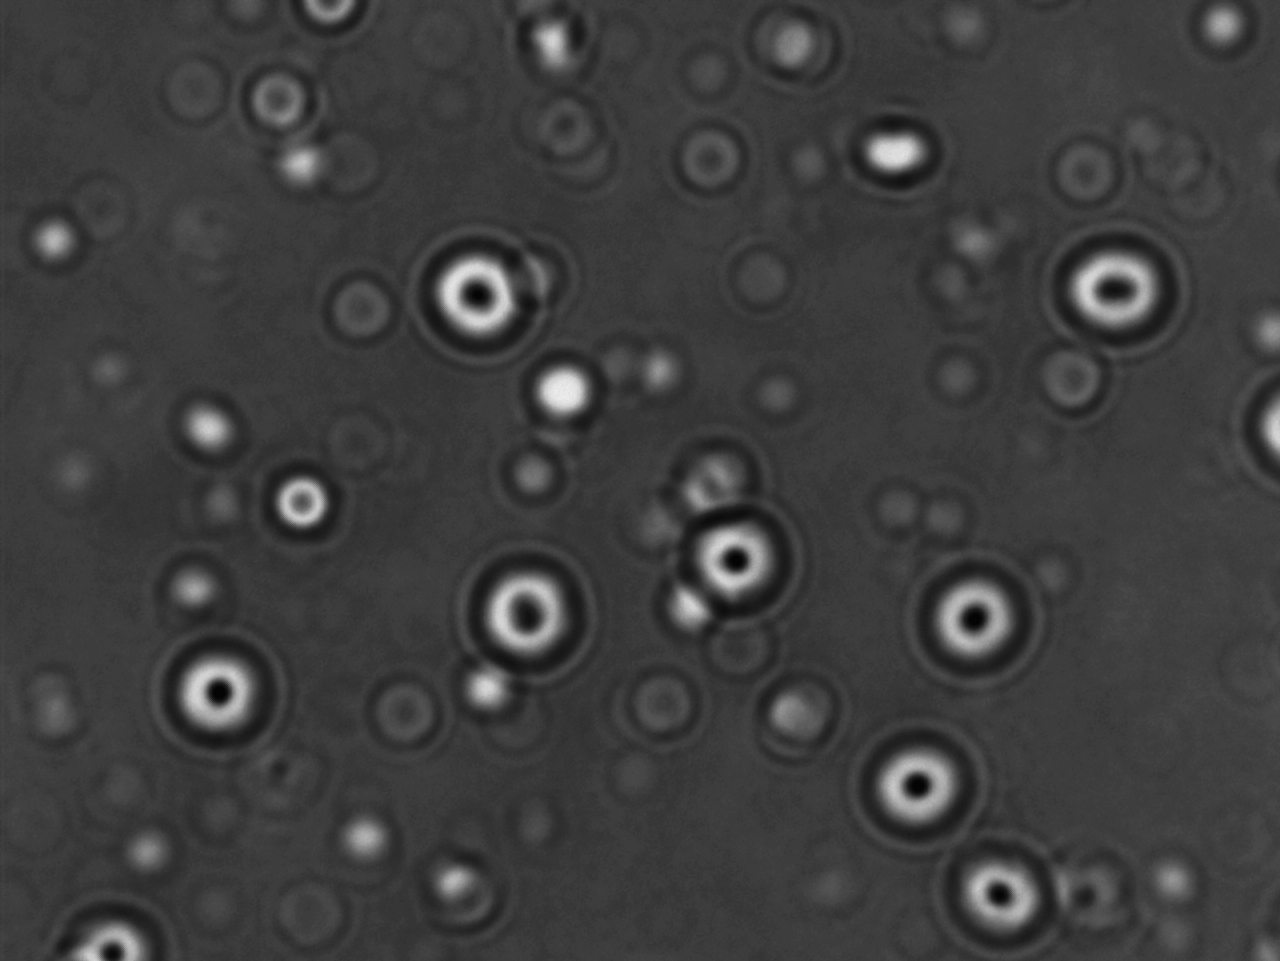depth:16: (1047, 220, 1188, 362), (903, 541, 1043, 675), (463, 553, 593, 686), (154, 625, 283, 752), (852, 723, 980, 848), (415, 232, 537, 362), (940, 841, 1059, 956), (675, 498, 789, 612)
